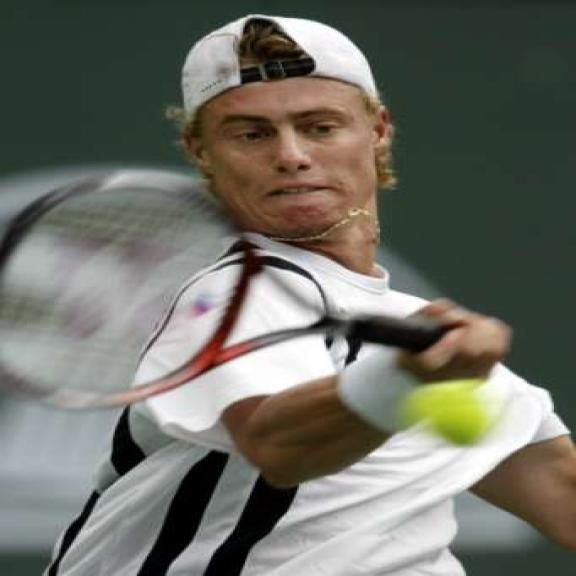face: (181, 87, 403, 243)
